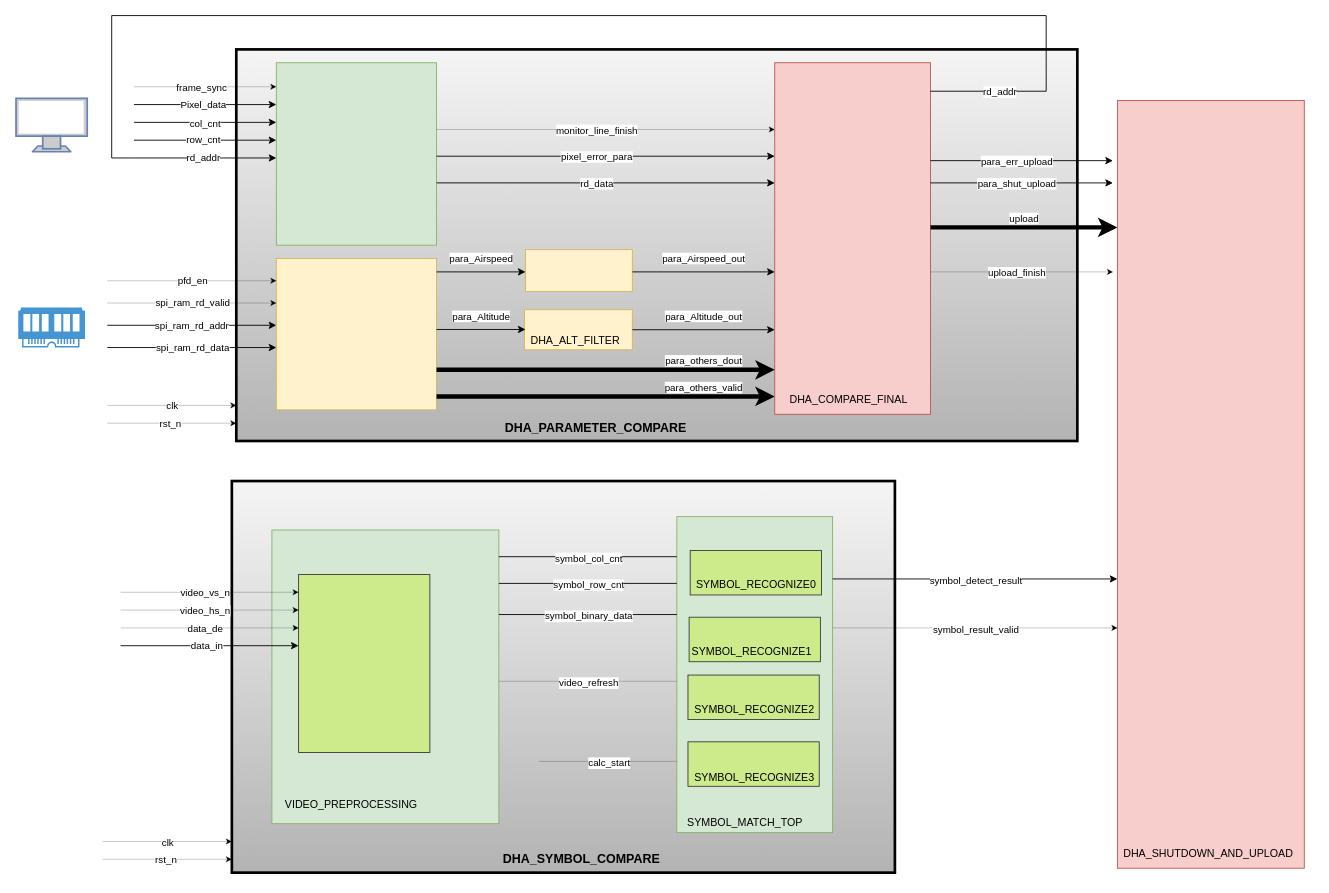
Some shapes in this 1329 by 893 pixel diagram are drawn without their labels. Each missing label, with the centre of its shape:
"DHA_AS_FILTER" goes at (578,270).
"DHA_SPI_MONITOR_LINE_UNPACK" goes at (356,334).
"MONITOR_LINE_DETECT" goes at (356,153).
"RGB2BINARY_SYMBOL" goes at (364,663).
